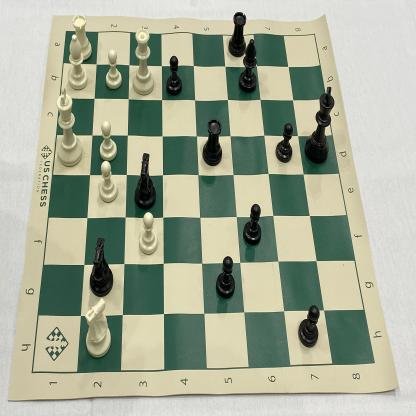black-bishop: (237, 35, 259, 96)
black-king: (303, 84, 337, 165)
black-knight: (87, 234, 116, 299), (132, 149, 160, 211)
black-pawn: (213, 252, 238, 303), (296, 303, 321, 352), (274, 120, 297, 167), (242, 200, 264, 248), (164, 53, 184, 99)
black-rook: (201, 117, 224, 170), (227, 7, 248, 60)
white-bishop: (64, 27, 91, 93)
white-king: (53, 86, 87, 170)
white-knight: (81, 296, 116, 360)
white-pawn: (136, 210, 160, 258), (96, 158, 120, 205), (97, 118, 119, 165), (103, 47, 124, 92)
white-queen: (132, 23, 158, 100)
white-rook: (70, 11, 93, 62)
